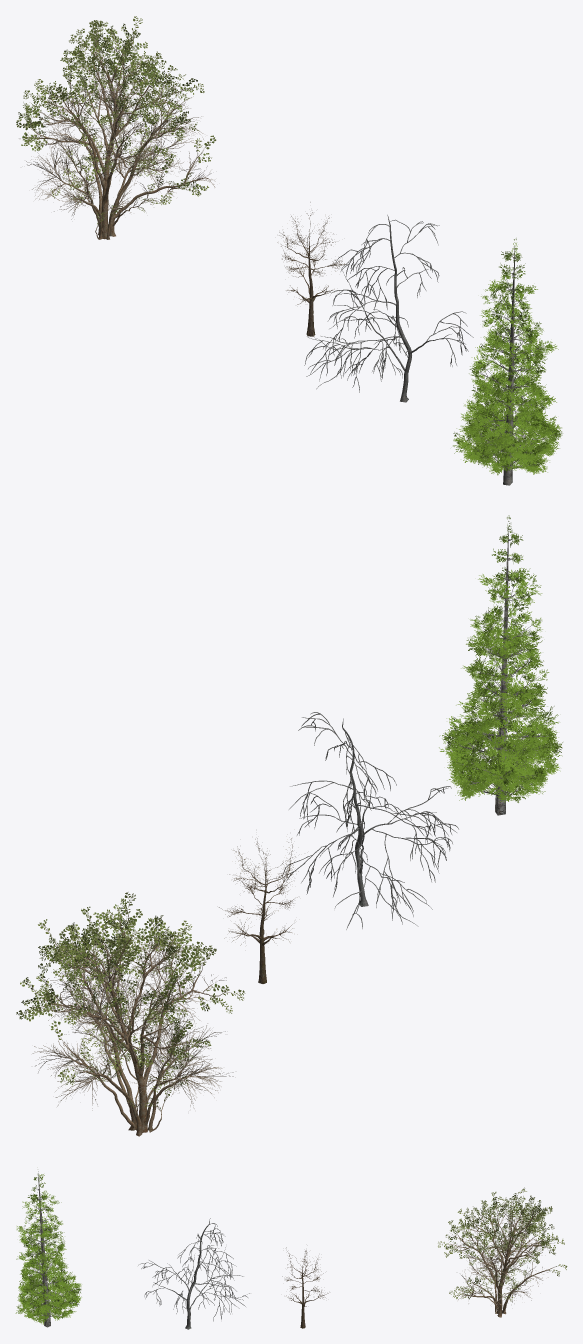
The model's file is treeS.fbx.
3 renders of one model, top to bottom at view 1: azimuth 30°, elevation 25°; view 2: azimuth 150°, elevation 25°; view 3: azimuth 270°, elevation 25°, orthographic. The views are drawn at different scales.
Parts seen in each view (by area): view 1: Black Alder Large, Low Poly Evergreen Tree Short 3, Small Tree Twig, bark; view 2: Black Alder Large, Low Poly Evergreen Tree Short 3, Small Tree Twig, bark; view 3: Black Alder Large, Low Poly Evergreen Tree Short 3, Small Tree Twig, bark.
Boxes of the visible parts, x1,y1,x2,y2 form: Black Alder Large: (16, 16, 216, 239); Low Poly Evergreen Tree Short 3: (453, 238, 562, 485); Small Tree Twig: (304, 215, 473, 402); bark: (277, 202, 351, 336); Black Alder Large: (16, 892, 245, 1136); Low Poly Evergreen Tree Short 3: (439, 515, 562, 815); Small Tree Twig: (282, 712, 458, 929); bark: (219, 838, 298, 983); Black Alder Large: (438, 1187, 567, 1317); Low Poly Evergreen Tree Short 3: (15, 1171, 81, 1327); Small Tree Twig: (138, 1218, 249, 1329); bark: (282, 1247, 328, 1328).
Bounding box in the file's own units: 13.55 × 17.85 × 55.09.
